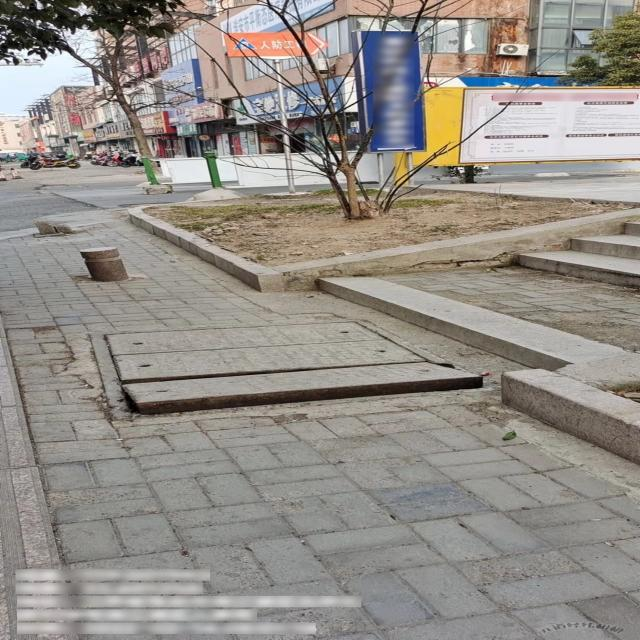Faulty: (90, 320, 488, 420)
